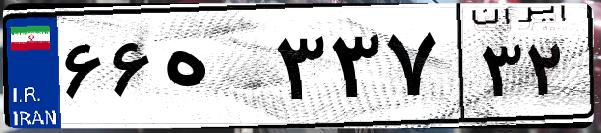2: (525, 38, 570, 115)
3: (270, 28, 330, 110), (330, 28, 385, 110), (475, 38, 525, 113)
6: (57, 26, 110, 100), (110, 28, 158, 98)
7: (385, 28, 445, 110)
ه: (158, 20, 270, 120)
